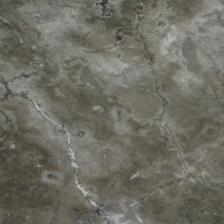Crack: (3, 46, 100, 152), (48, 74, 130, 134), (0, 99, 131, 133)
